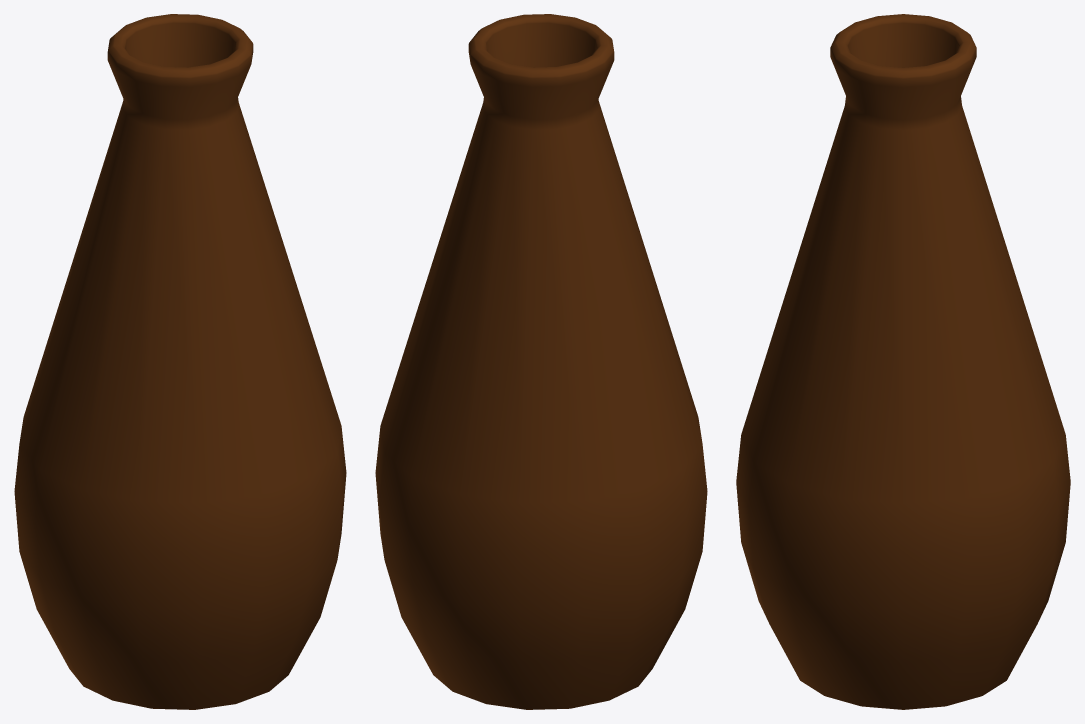
Rendered from Кувшин.fbx.
The picture shows the model from 3 angles, left to right: view 1: azimuth 30°, elevation 25°; view 2: azimuth 150°, elevation 25°; view 3: azimuth 270°, elevation 25°; orthographic projection.
Parts seen in each view (by area): view 1: Cylinder; view 2: Cylinder; view 3: Cylinder.
Part boxes in pixels (x1,y1,x2,y2): Cylinder: (14,14,346,709); Cylinder: (375,14,707,709); Cylinder: (736,14,1070,709).
Bounding box in the file's own units: 1.96 × 4.02 × 1.96.
